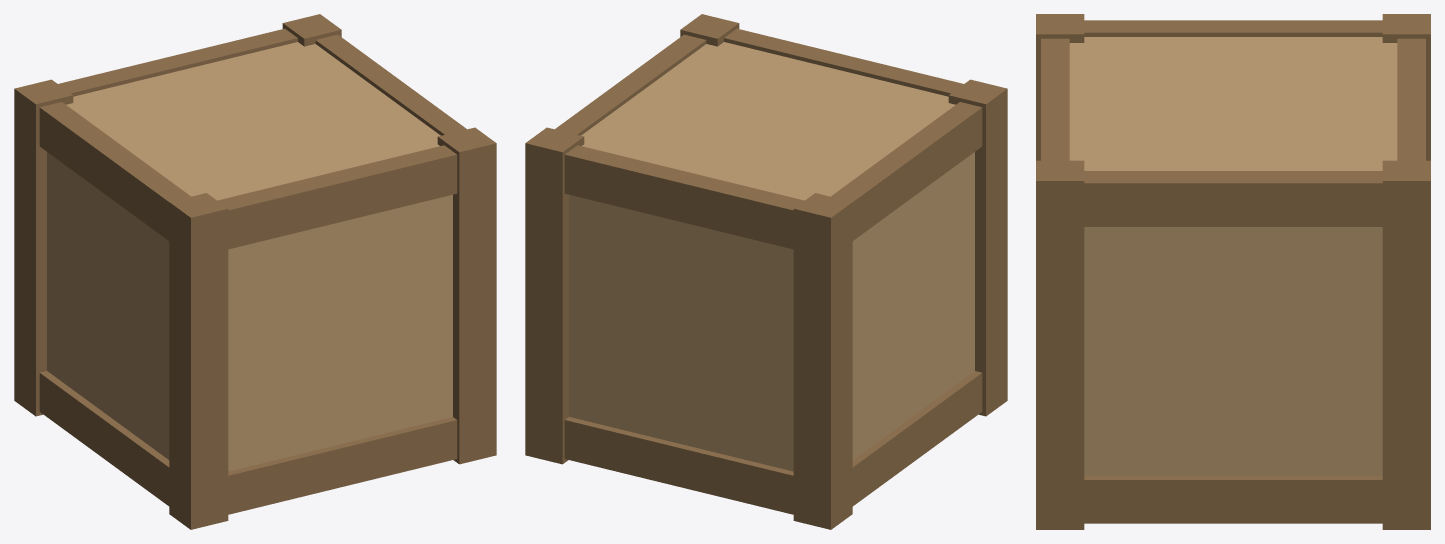
File: crate.glb
3 views of the same model, side by side, from view 1: azimuth 30°, elevation 25°; view 2: azimuth 150°, elevation 25°; view 3: azimuth 270°, elevation 25° (orthographic). The views are drawn at different scales.
Parts seen in each view (by area): view 1: Crate; view 2: Crate; view 3: Crate.
Boxes of the visible parts, <box> form: Crate: <box>14,14,496,529</box>; Crate: <box>525,14,1007,529</box>; Crate: <box>1036,14,1430,529</box>.
Size of the model in its own units: 0.82 by 0.8 by 0.82.
